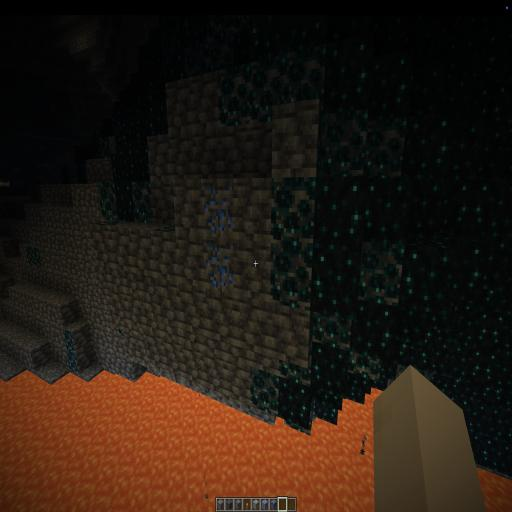lapis ore: (199, 179, 240, 299)
